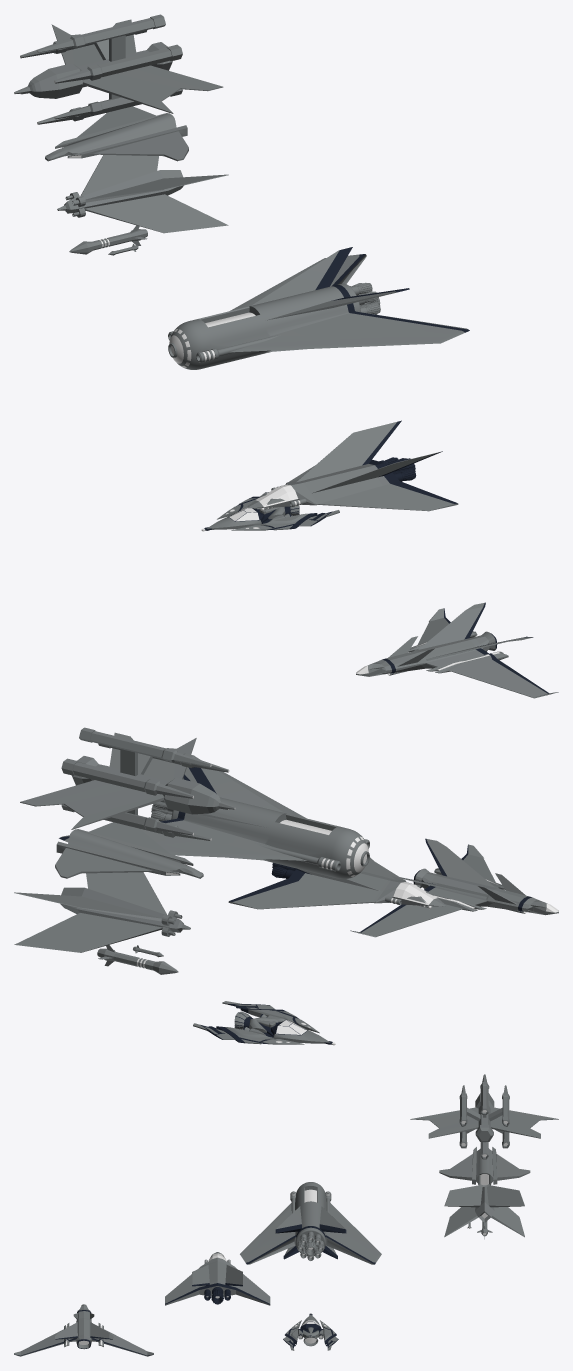
Rendered from Some Ship Assets.fbx.
3 views of the same model, one above another, from view 1: azimuth 30°, elevation 25°; view 2: azimuth 150°, elevation 25°; view 3: azimuth 270°, elevation 25° (orthographic). The views are drawn at different scales.
Visible parts, largest first — view 1: Ship_Mega, Ship L3, Ship4, Ship L1, Ship1, Ship L2, Ship A1, A1 Left Wing, Large Rocket; view 2: Ship_Mega, Ship L3, Ship L1, Ship1, Ship4, Ship L2, Ship A1, A1 Right Wing, Large Rocket, A1 Left Wing; view 3: Ship_Mega, Ship L3, Ship4, Ship L1, Ship1, Ship L2, Ship A1.
Part boxes in pixels (left/top/right/bottom): Ship_Mega: left=168, top=247, right=469, bottom=369; Ship L3: left=14, top=14, right=223, bottom=124; Ship4: left=247, top=420, right=458, bottom=511; Ship L1: left=57, top=155, right=228, bottom=233; Ship1: left=356, top=602, right=558, bottom=698; Ship L2: left=45, top=106, right=188, bottom=161; Ship A1: left=201, top=505, right=299, bottom=531; A1 Left Wing: left=231, top=510, right=339, bottom=530; Large Rocket: left=69, top=225, right=147, bottom=254; Ship_Mega: left=59, top=756, right=369, bottom=878; Ship L3: left=20, top=727, right=235, bottom=840; Ship L1: left=14, top=872, right=190, bottom=952; Ship1: left=350, top=838, right=558, bottom=937; Ship4: left=228, top=857, right=445, bottom=909; Ship L2: left=55, top=822, right=203, bottom=878; Ship A1: left=234, top=1011, right=335, bottom=1045; A1 Right Wing: left=193, top=1023, right=304, bottom=1044; Large Rocket: left=97, top=945, right=178, bottom=974; A1 Left Wing: left=222, top=1001, right=319, bottom=1033; Ship_Mega: left=240, top=1182, right=381, bottom=1264; Ship L3: left=410, top=1074, right=558, bottom=1159; Ship4: left=165, top=1252, right=270, bottom=1305; Ship L1: left=444, top=1184, right=524, bottom=1237; Ship1: left=14, top=1304, right=153, bottom=1356; Ship L2: left=439, top=1147, right=530, bottom=1186; Ship A1: left=298, top=1313, right=323, bottom=1346.
Size of the model in its own units: 7303 by 10759 by 21628.
